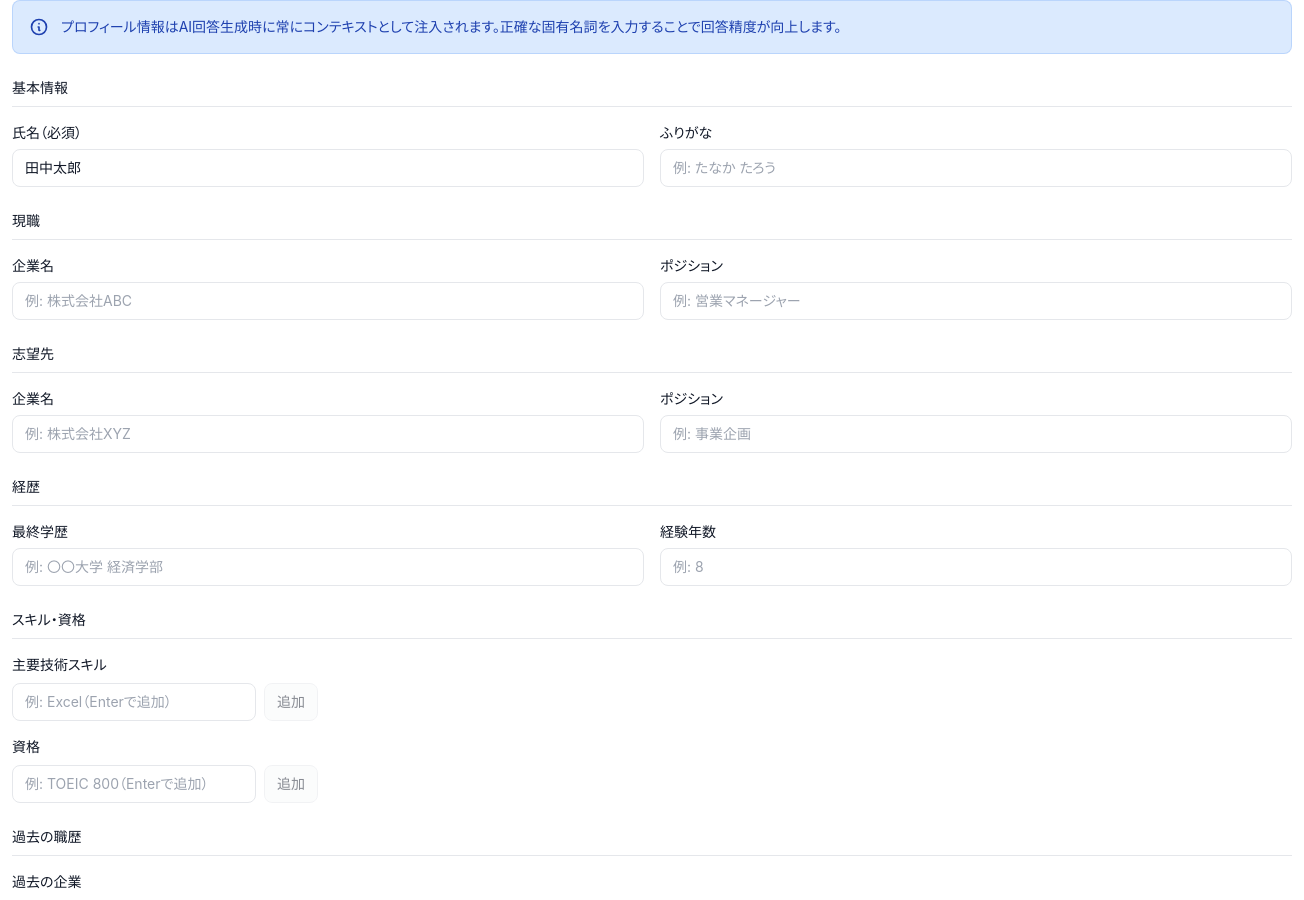
Test: ProfileTab › should add a tag on Enter key in tag input
Type "Python" into the field with placeholder "例: Excel（Enterで追加）" at (134, 702), box [12,683,256,721]
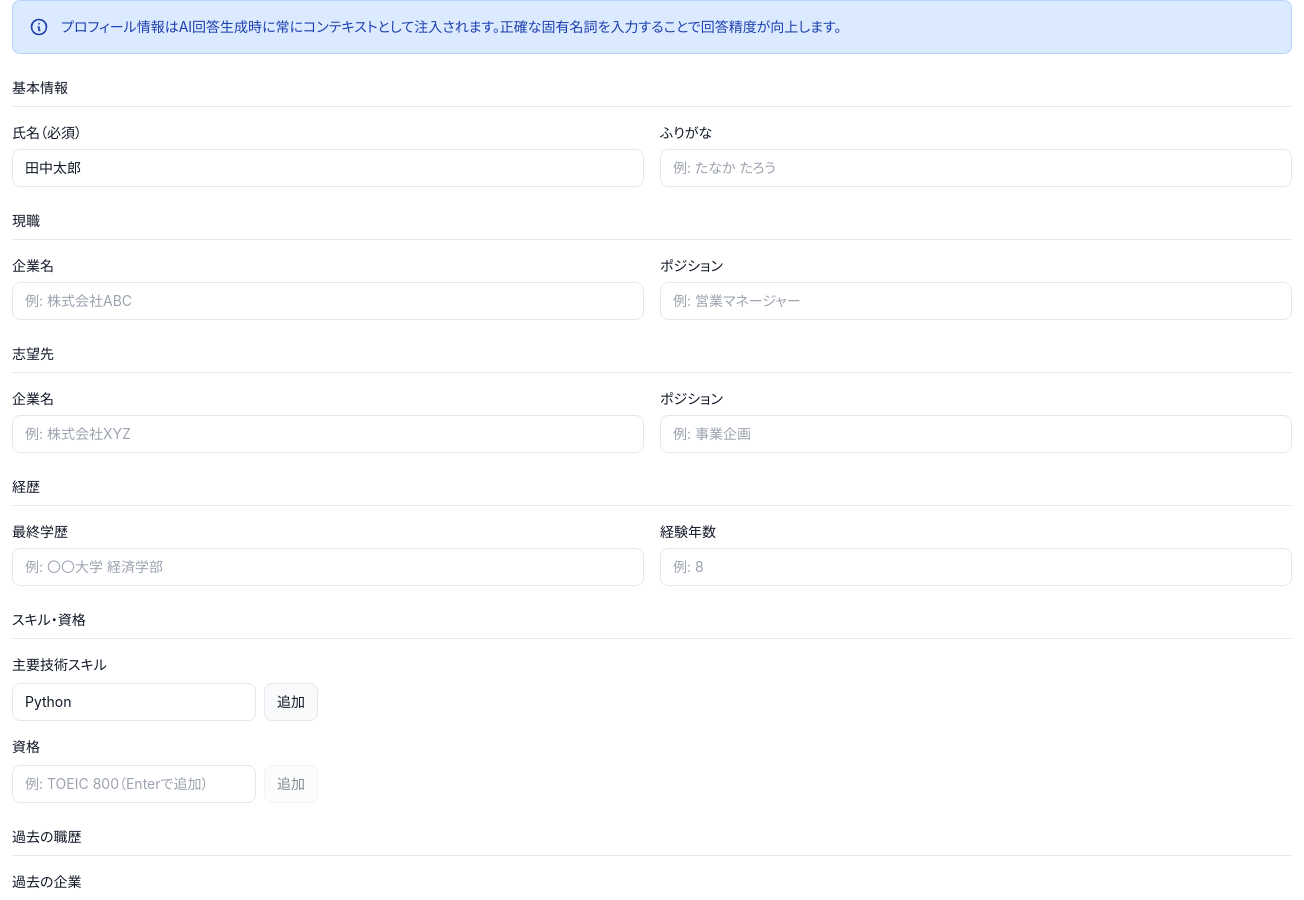
Press Enter in the field with placeholder "例: Excel（Enterで追加）" below "主要技術スキル", box [12,683,256,721]
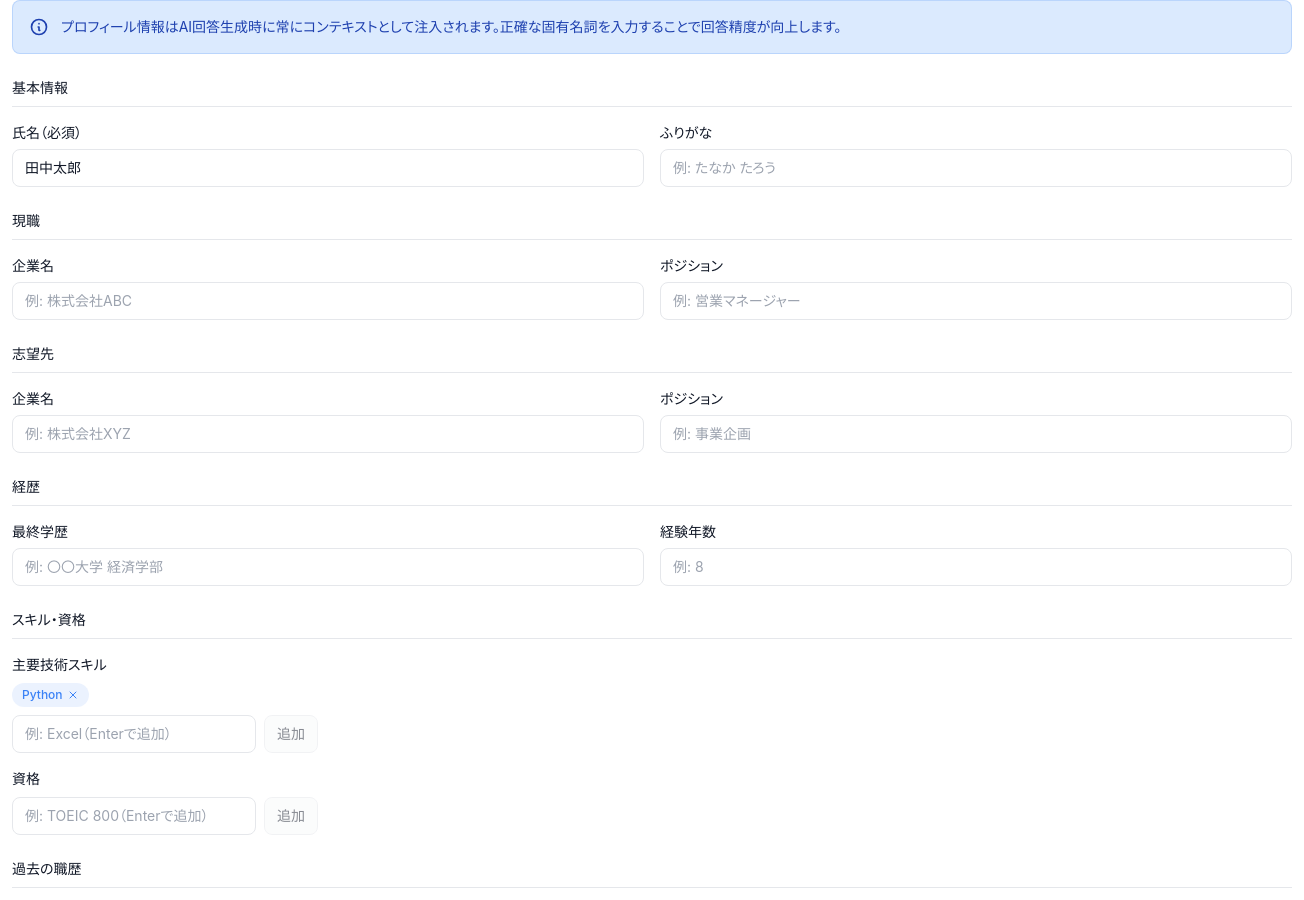
Expected: the text "Python" is shown, [12,683,89,707]
